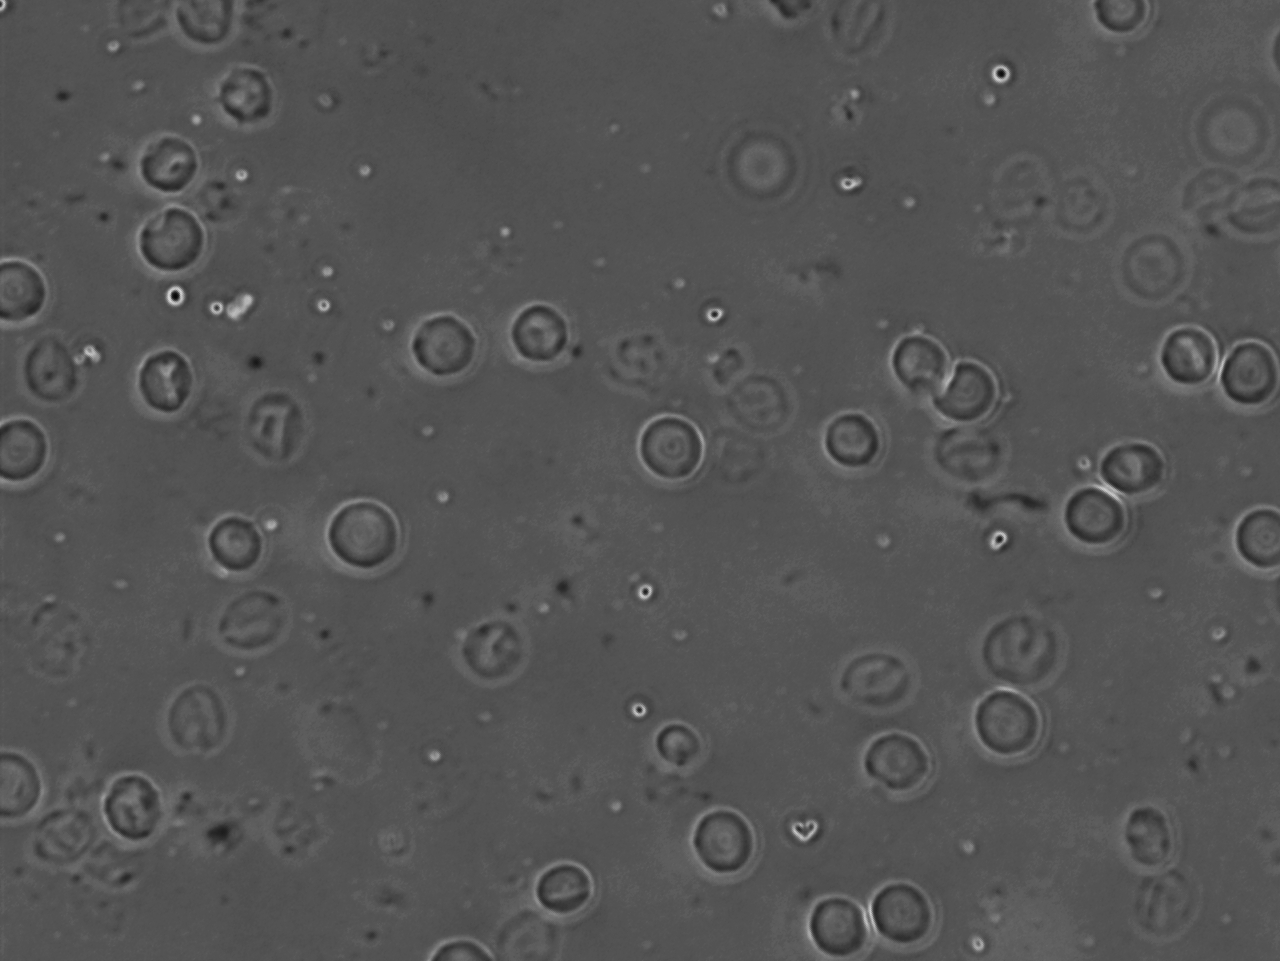depth:0: (855, 867, 967, 961), (958, 668, 1053, 773), (620, 405, 725, 496), (317, 491, 415, 586), (1092, 425, 1205, 508), (850, 715, 951, 806), (400, 297, 483, 403), (1200, 312, 1280, 420), (672, 797, 770, 883), (1143, 306, 1229, 400), (1053, 475, 1141, 566), (190, 501, 279, 588), (782, 882, 875, 961), (130, 199, 216, 281), (499, 291, 580, 376), (527, 853, 613, 933), (129, 129, 211, 207), (1218, 496, 1280, 593), (816, 405, 902, 472)
